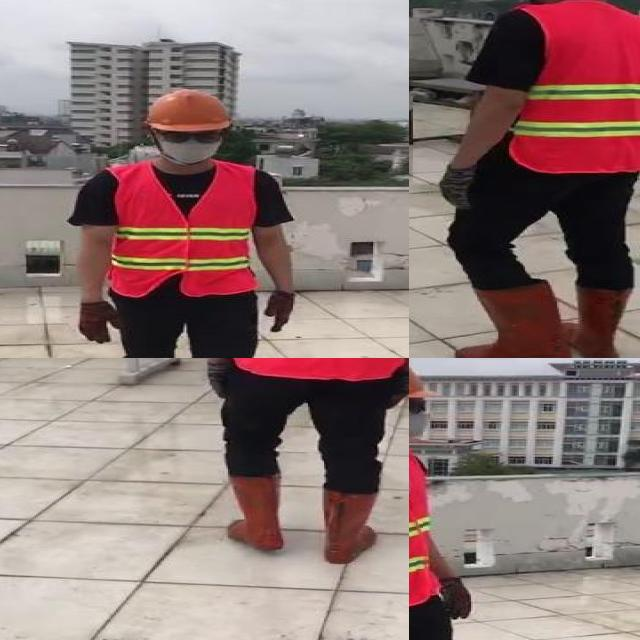boots: (454, 284, 573, 358), (571, 281, 637, 358), (226, 474, 287, 551), (322, 488, 379, 568)
face_mask: (152, 128, 224, 162), (409, 396, 432, 440)
glasses: (156, 125, 224, 146), (409, 395, 433, 417)
hand_glove: (74, 302, 122, 344), (436, 165, 479, 209), (439, 577, 473, 620), (264, 290, 294, 332), (202, 363, 234, 398), (382, 370, 409, 408)
head_helmet: (144, 88, 234, 132)
person: (416, 0, 640, 358), (64, 88, 304, 358), (197, 358, 409, 577), (409, 358, 477, 640)
vest: (512, 1, 640, 173), (106, 161, 261, 294)
